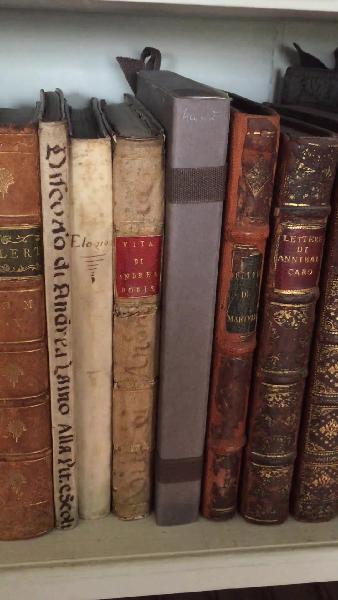Aa6-24: (37, 115, 82, 525)
Aa6-25: (69, 134, 109, 519)
Aa6-26: (114, 132, 159, 515)
Aa6-27: (161, 91, 229, 520)
Aa6-28: (206, 115, 265, 519)
Aa6-29: (241, 113, 335, 527)
